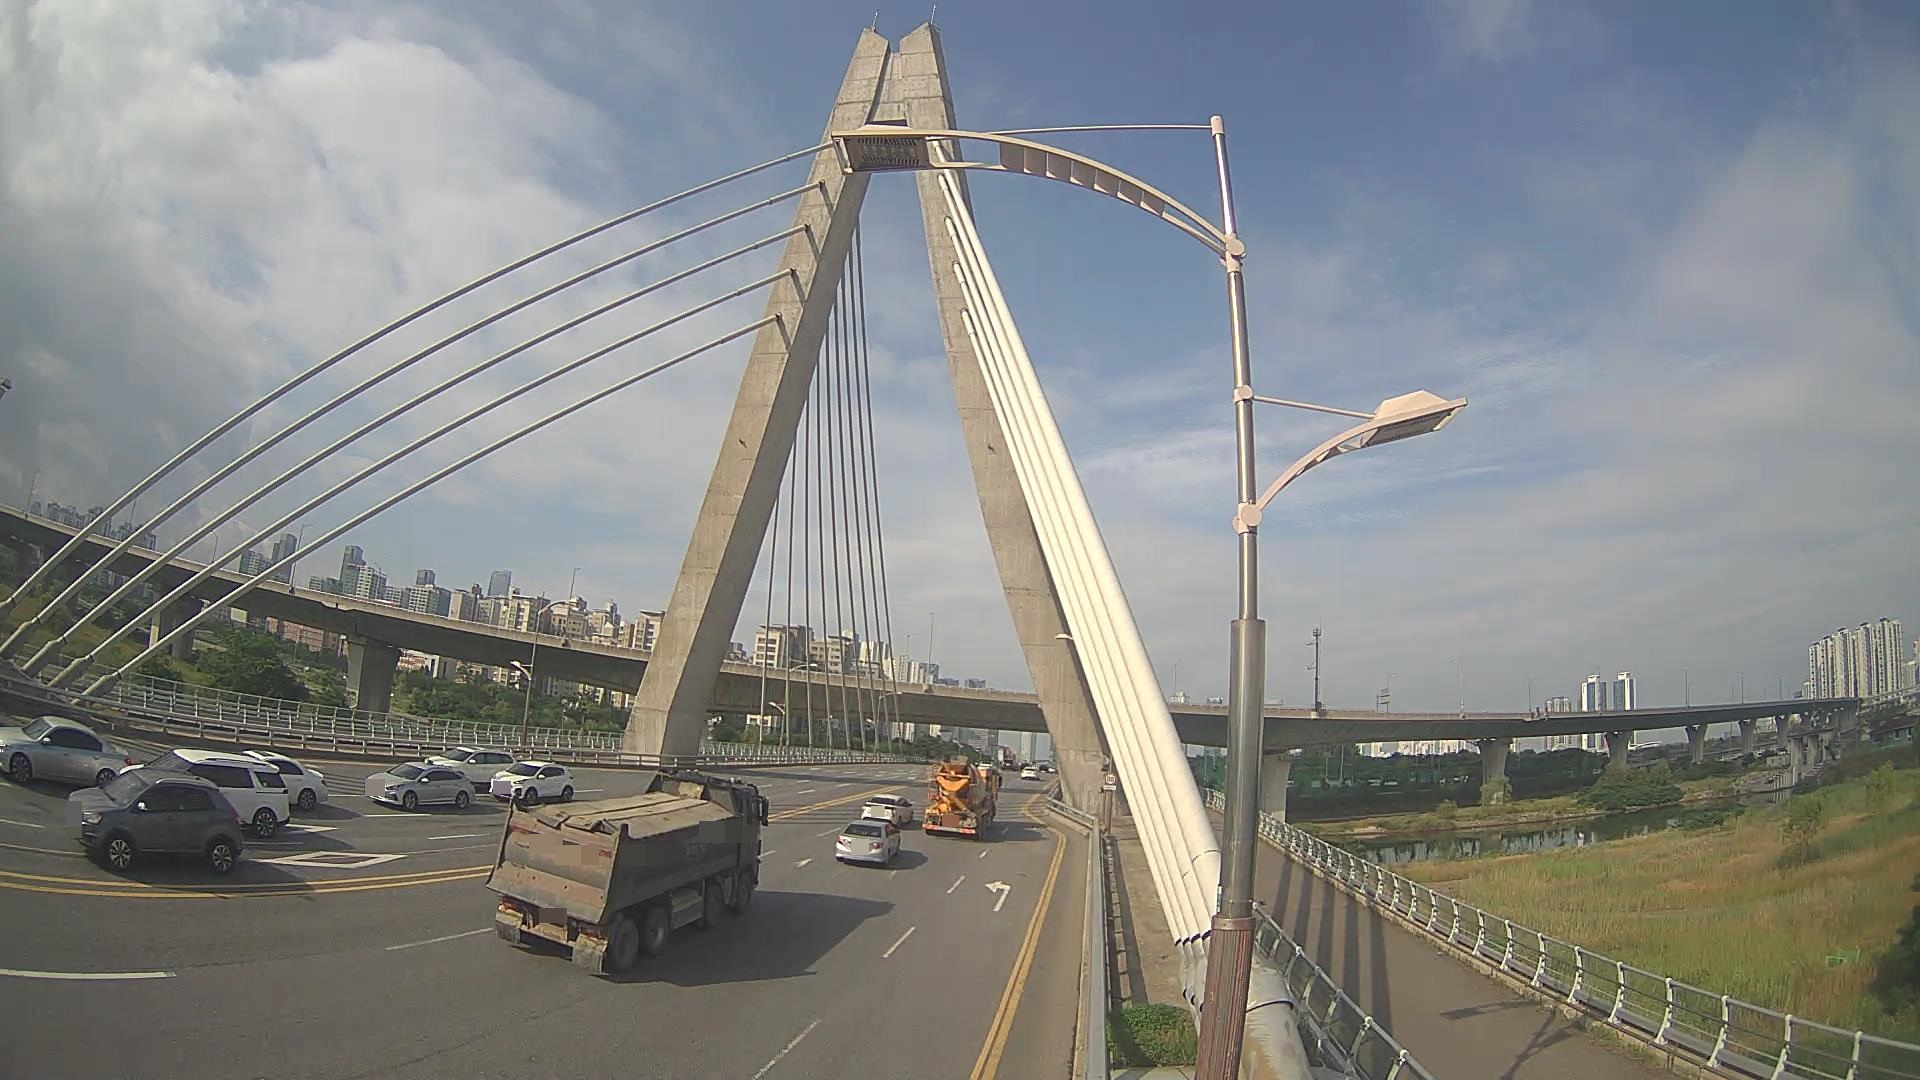정상차량: (484, 769, 769, 973)
